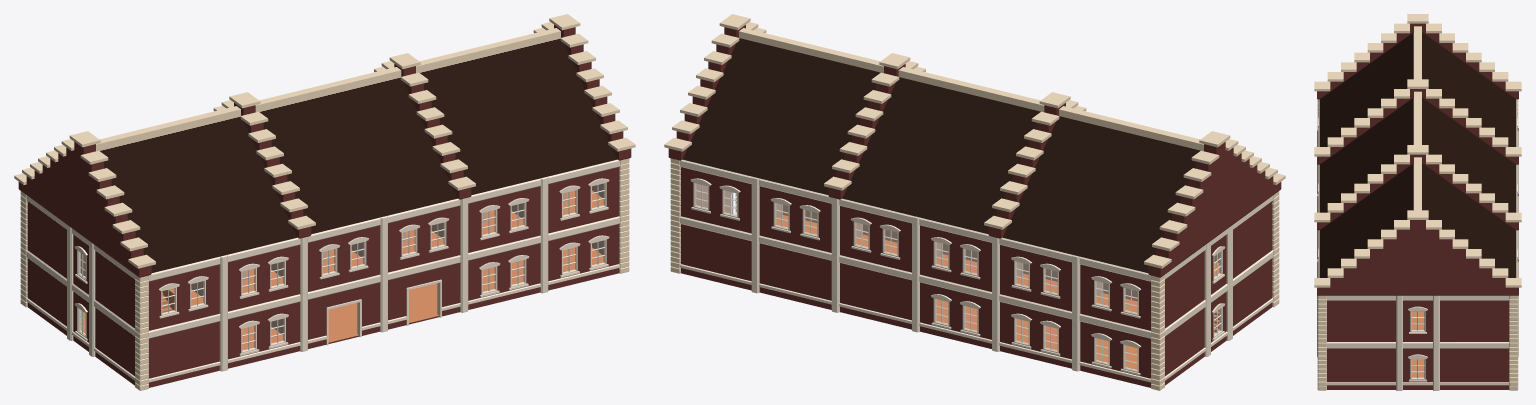
File: PuntEchoBarracks.fbx
The picture shows the model from 3 angles, left to right: view 1: azimuth 30°, elevation 25°; view 2: azimuth 150°, elevation 25°; view 3: azimuth 270°, elevation 25°; orthographic projection. The views are drawn at different scales.
Parts seen in each view (by area): view 1: Roof, Barracks; view 2: Roof, Barracks; view 3: Roof, Barracks.
Part boxes in pixels (bbox=[...]): Roof: bbox=[14, 14, 635, 277]; Barracks: bbox=[20, 158, 629, 390]; Roof: bbox=[664, 14, 1285, 277]; Barracks: bbox=[670, 158, 1279, 390]; Roof: bbox=[1314, 14, 1521, 295]; Barracks: bbox=[1317, 99, 1518, 390].
Bounding box in the file's own units: 5126 × 2051 × 2205.
Materials: 2 (2 with a texture image).
